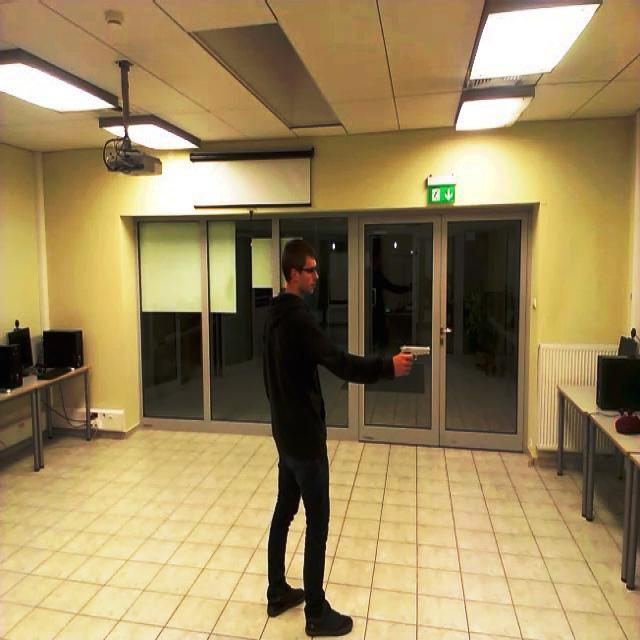Gun: (378, 326, 444, 381)
